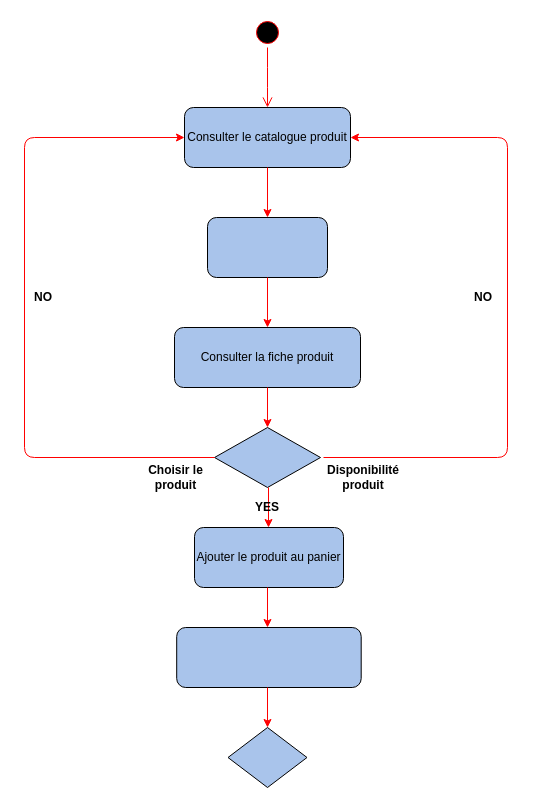
Image size: 533x805. Some labels were removed from this diagram. Here are the shapes that lost their labels. From the top down, the centre of each, then its label:
At pixel 267 247: "Séléctionner un produit".
At pixel 268 657: "Consulter le panier produit".
